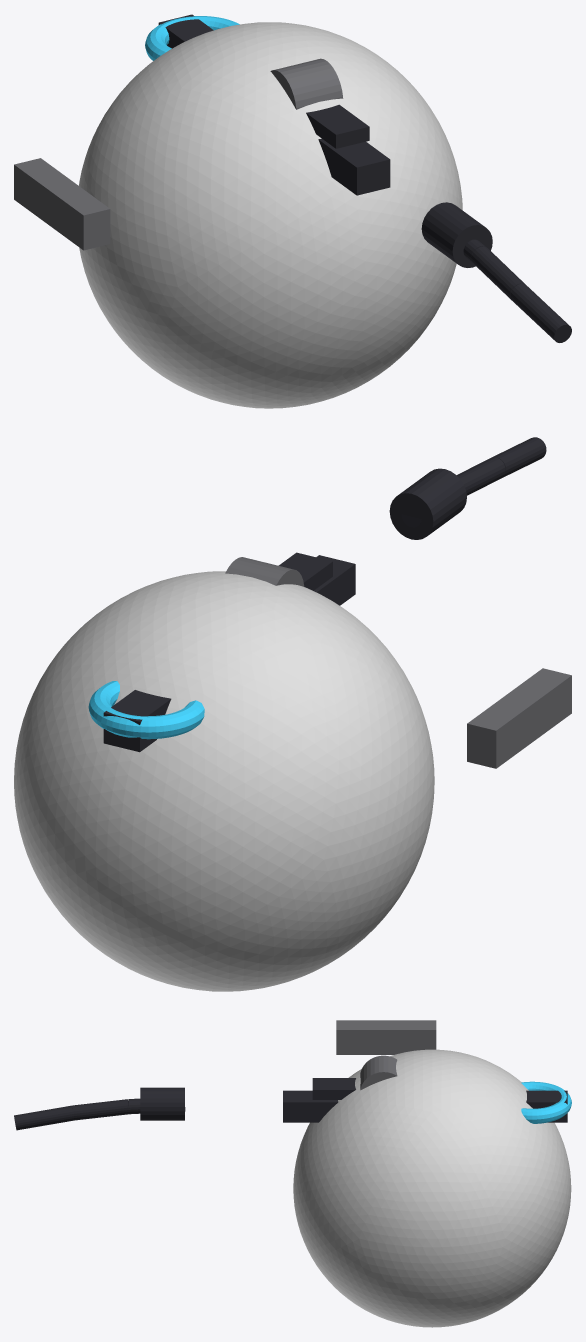
The model's file is sourisGaming.glb.
The picture shows the model from 3 angles, top to bottom: view 1: azimuth 30°, elevation 25°; view 2: azimuth 150°, elevation 25°; view 3: azimuth 270°, elevation 25°; orthographic projection. The views are drawn at different scales.
Visible parts, largest first — view 1: Mouse_Body, Center_Black_Spine, Side_Button_2, Cable_Sleeve, Side_Button_1, Scroll_Wheel, DPI_Button, Cable_3, Cable_2, Blue_Logo_Light; view 2: Mouse_Body, Side_Button_1, Cable_Sleeve, Blue_Logo_Light, Center_Black_Spine, Side_Button_2, Scroll_Wheel, DPI_Button, Cable_3, Cable_2; view 3: Mouse_Body, Center_Black_Spine, Side_Button_1, Side_Button_2, Cable_Sleeve, Blue_Logo_Light, Cable_3, Cable_2, Scroll_Wheel, DPI_Button.
Part boxes in pixels (x1,y1,x2,y2): Mouse_Body: (79,22,462,408); Center_Black_Spine: (158,14,390,195); Side_Button_2: (43,180,110,250); Cable_Sleeve: (421,202,492,267); Side_Button_1: (14,158,80,228); Scroll_Wheel: (270,58,343,109); DPI_Button: (306,104,369,148); Cable_3: (510,283,571,342); Cable_2: (471,246,525,299); Blue_Logo_Light: (145,16,239,60); Mouse_Body: (14,571,434,991); Side_Button_1: (467,694,540,768); Cable_Sleeve: (389,468,466,539); Blue_Logo_Light: (88,681,204,739); Center_Black_Spine: (103,555,355,752); Side_Button_2: (499,668,571,736); Scroll_Wheel: (225,557,304,586); DPI_Button: (278,552,332,590); Cable_3: (491,437,546,477); Cable_2: (456,457,505,495); Mouse_Body: (293,1049,571,1327); Center_Black_Spine: (283,1090,567,1122); Side_Button_1: (378,1020,436,1054); Side_Button_2: (336,1020,394,1054); Cable_Sleeve: (140,1087,184,1120); Blue_Logo_Light: (521,1081,571,1123); Cable_3: (14,1105,74,1130); Cable_2: (72,1099,129,1120); Scroll_Wheel: (360,1055,397,1090); DPI_Button: (312,1078,355,1099).
Size of the model in its own units: 2.51 by 2 by 4.01.
